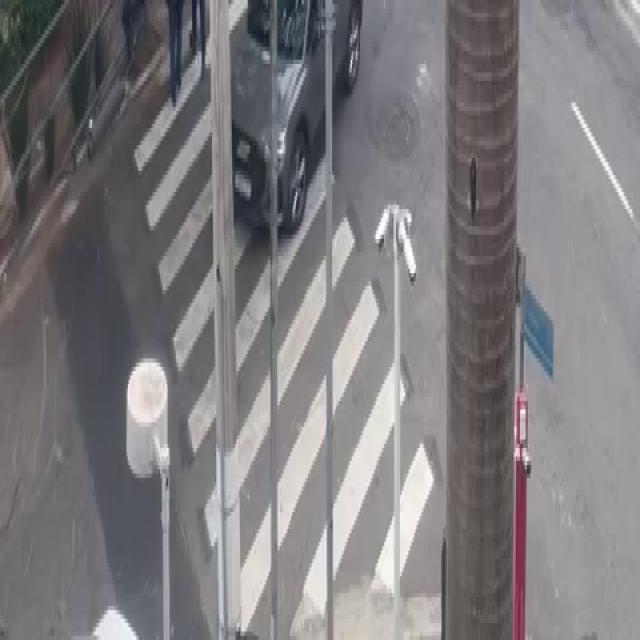car: (218, 0, 382, 243)
